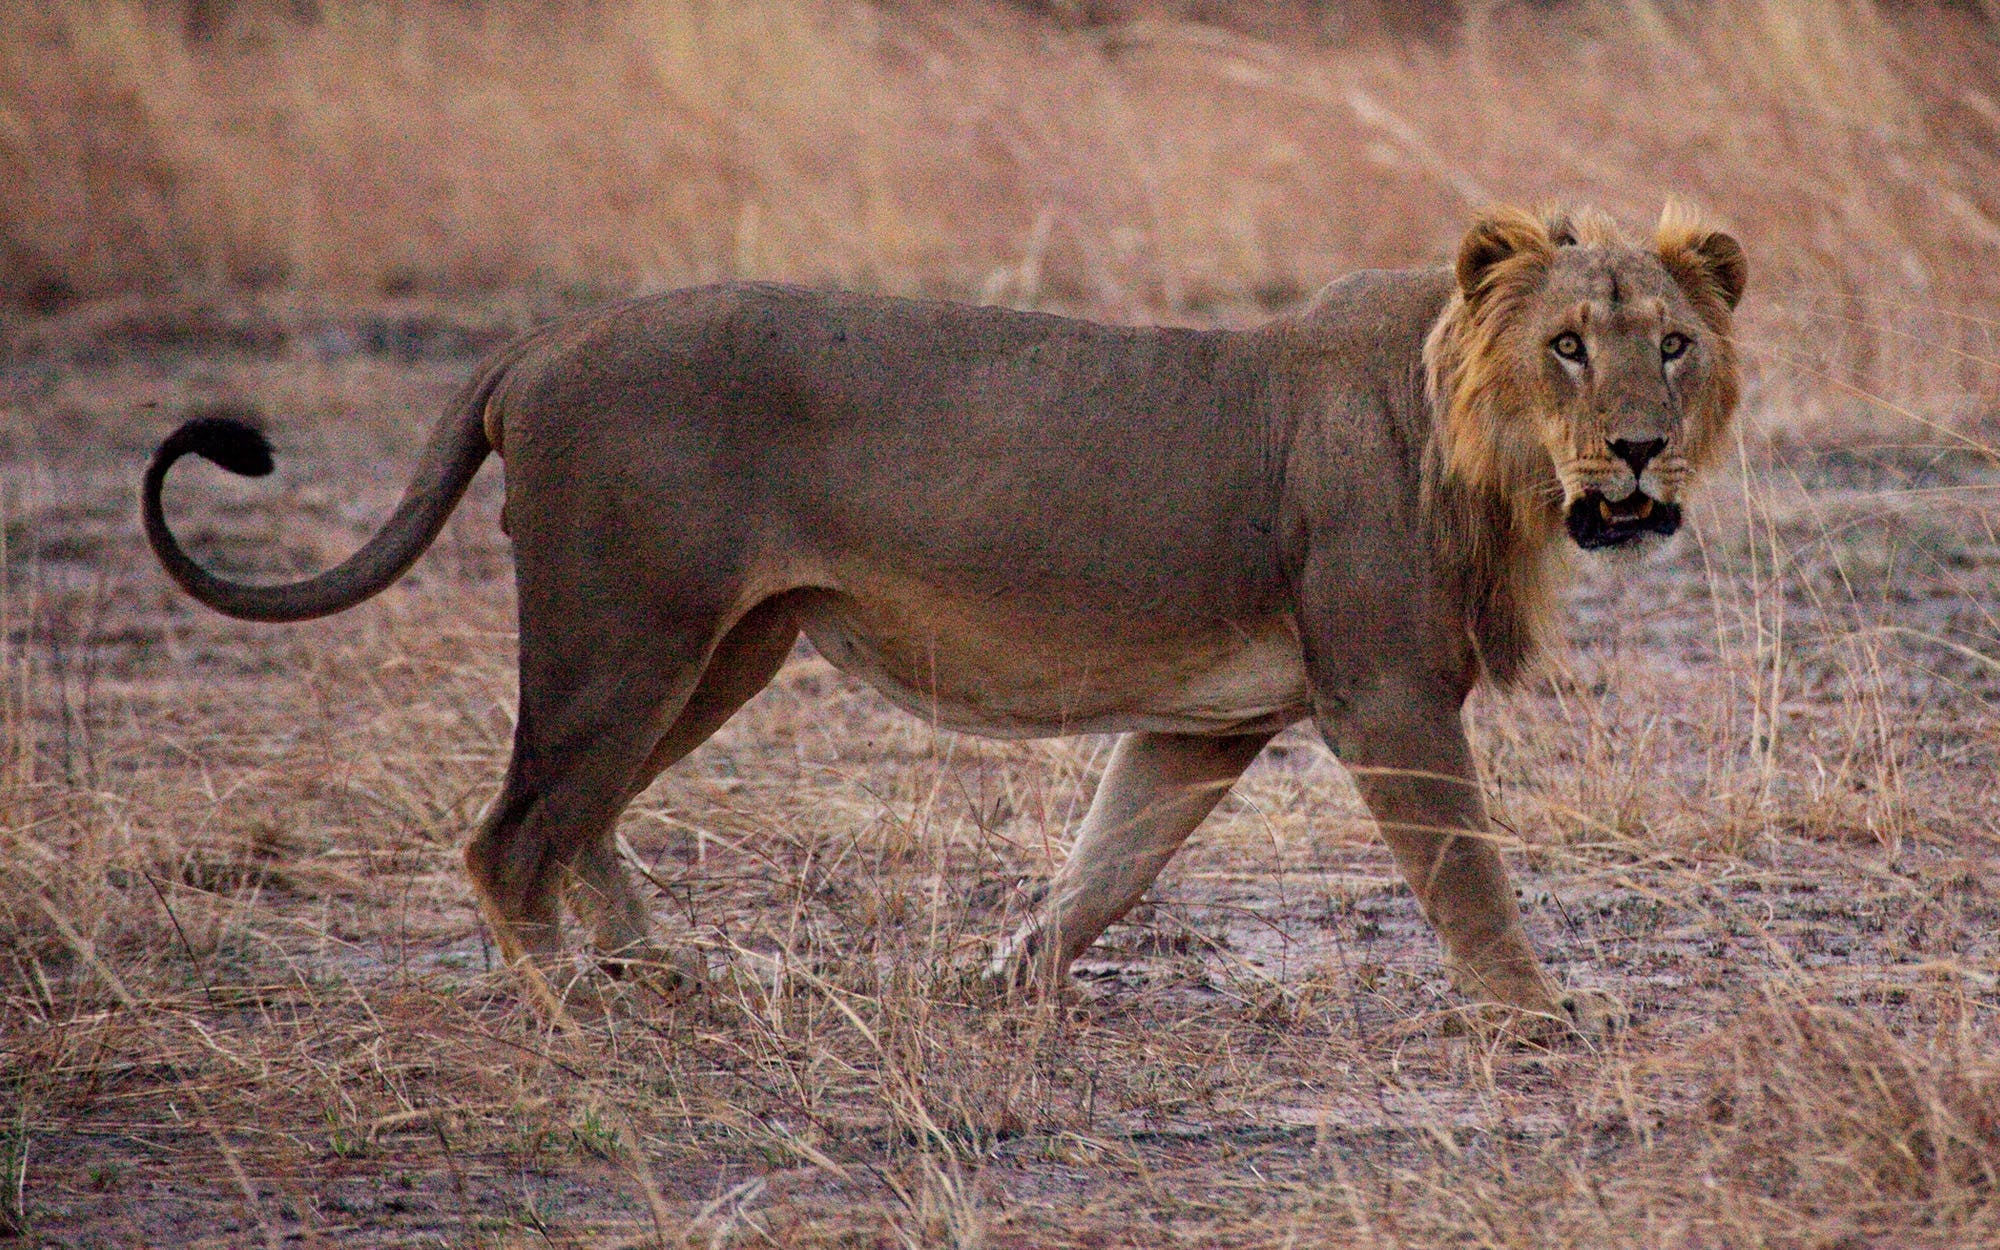lion: (130, 181, 1785, 1056)
